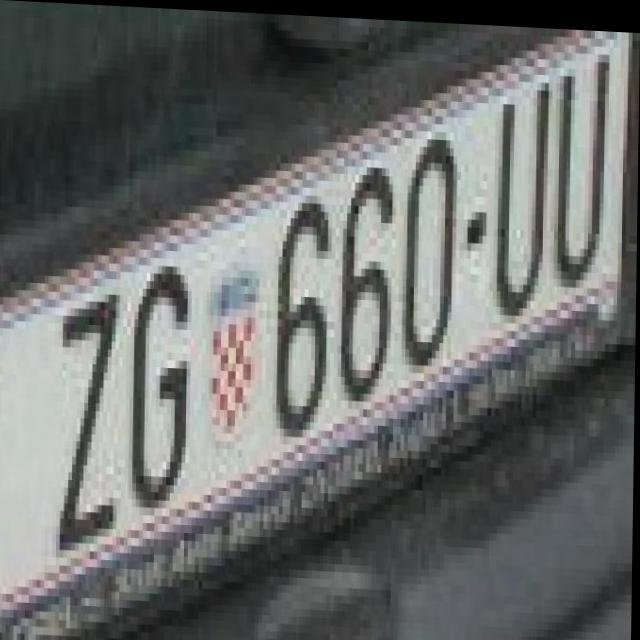0: (402, 126, 458, 378)
6: (338, 154, 398, 415), (274, 183, 334, 443)
G: (129, 256, 197, 531)
U: (550, 46, 617, 299), (494, 75, 545, 319)
Z: (46, 291, 117, 559)
